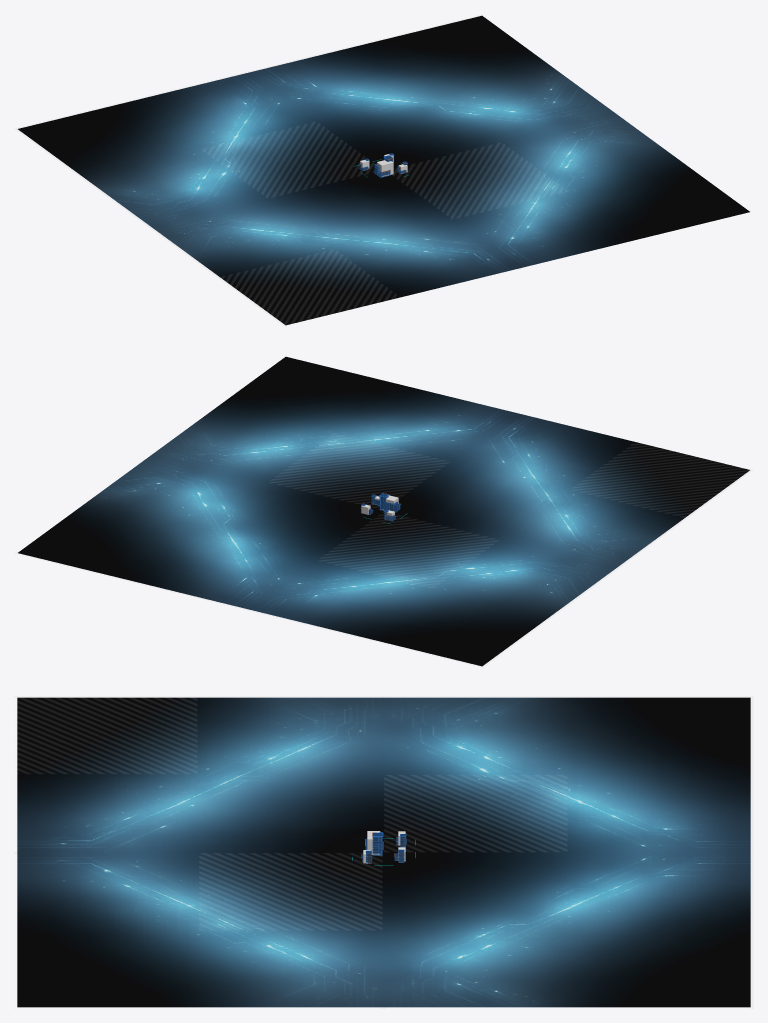
File: city.glb
3 views of the same model, one above another, from view 1: azimuth 30°, elevation 25°; view 2: azimuth 150°, elevation 25°; view 3: azimuth 270°, elevation 25° (orthographic). The views are drawn at different scales.
Parts seen in each view (by area): view 1: 平面.004, 平面.003; view 2: 平面.004, 平面.003; view 3: 平面.004, 平面.003.
Part boxes in pixels (box(x1,y1,x2,y2)): 平面.004: box(18, 15, 749, 325); 平面.003: box(14, 14, 753, 326); 平面.004: box(18, 356, 749, 666); 平面.003: box(14, 355, 753, 667); 平面.004: box(17, 697, 750, 1007); 平面.003: box(14, 696, 753, 1008).
Size of the model in its own units: 2068 by 64.78 by 2068.
12 materials, 4 textured.
